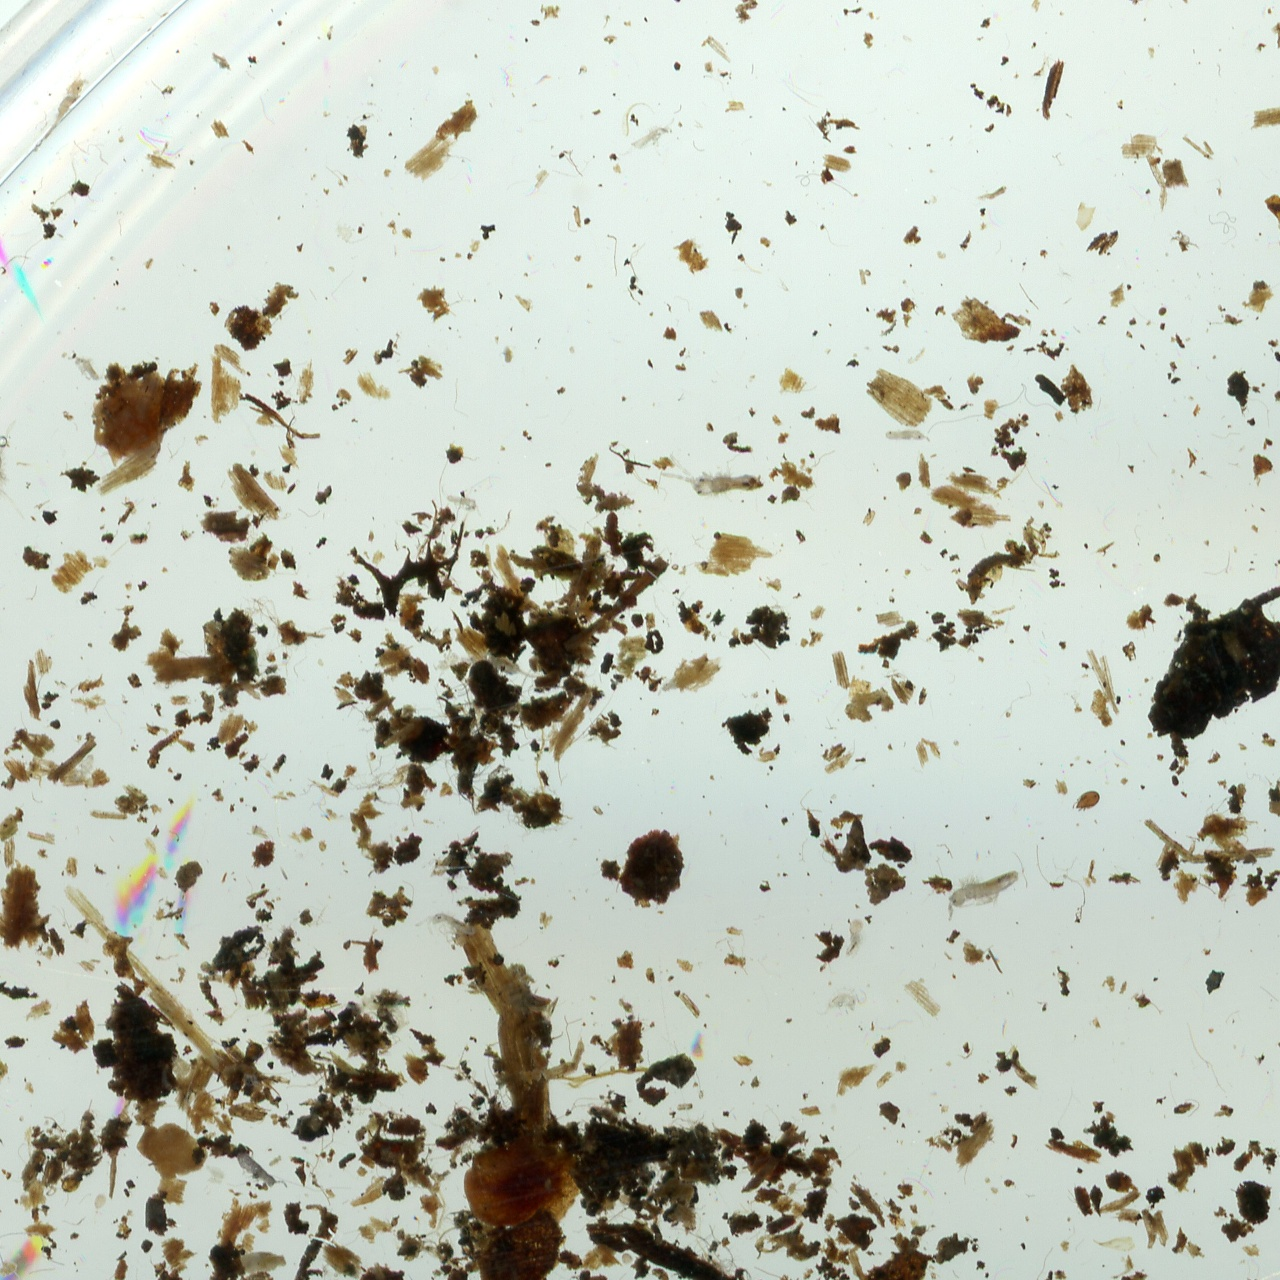arthropod: (935, 863, 1027, 922), (36, 64, 97, 142), (225, 1141, 295, 1206), (611, 113, 689, 170), (0, 415, 29, 531), (481, 647, 545, 692), (656, 470, 764, 495), (810, 988, 871, 1019), (67, 348, 107, 382), (843, 915, 867, 962), (885, 425, 933, 447), (444, 492, 484, 513), (652, 678, 685, 701), (1073, 790, 1101, 811)
